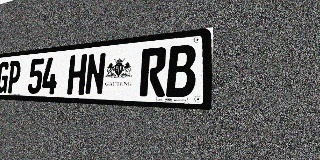4: (41, 57, 59, 94)
5: (27, 58, 44, 94)
B: (166, 44, 196, 98)
G: (0, 61, 10, 93)
H: (67, 54, 87, 95)
N: (84, 52, 107, 95)
P: (6, 60, 22, 93)
R: (139, 47, 167, 97)
